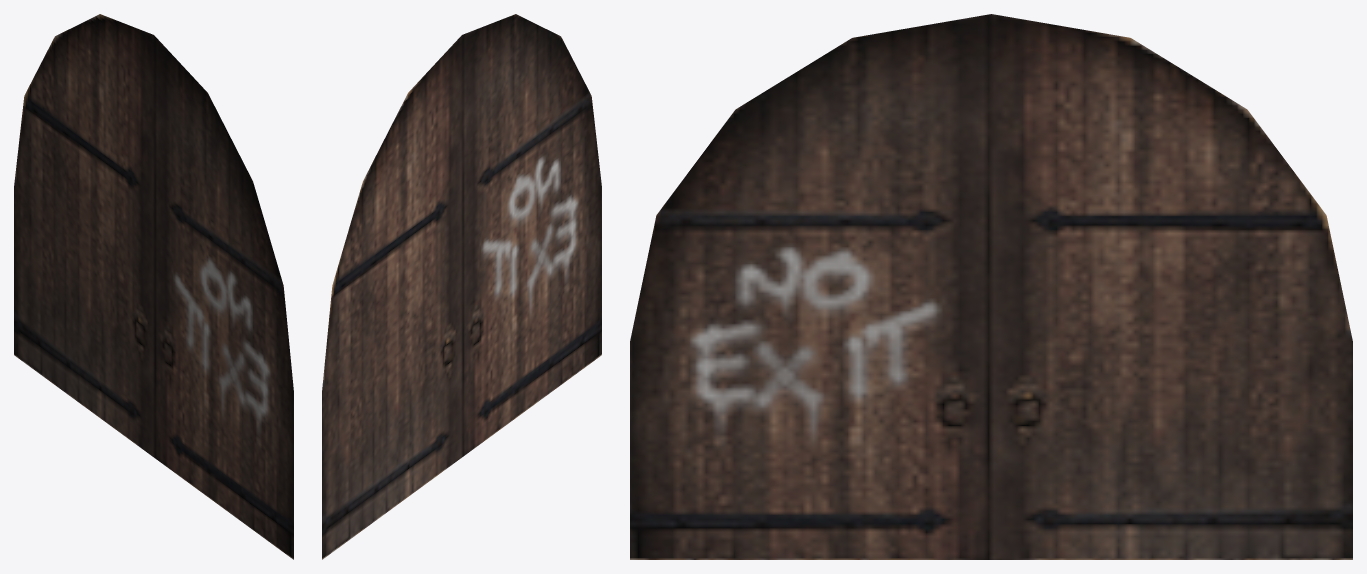
3 renders of one model, left to right at view 1: azimuth 30°, elevation 25°; view 2: azimuth 150°, elevation 25°; view 3: azimuth 270°, elevation 25°, orthographic. The views are drawn at different scales.
Visible parts, largest first — view 1: Object_23; view 2: Object_23; view 3: Object_23.
Boxes of the visible parts, x1=… form: Object_23: x1=14, y1=14, x2=293, y2=559; Object_23: x1=322, y1=14, x2=601, y2=559; Object_23: x1=630, y1=14, x2=1352, y2=559.
Bounding box in the file's own units: 0 × 2.13 × 2.56.
1 material, 1 textured.
